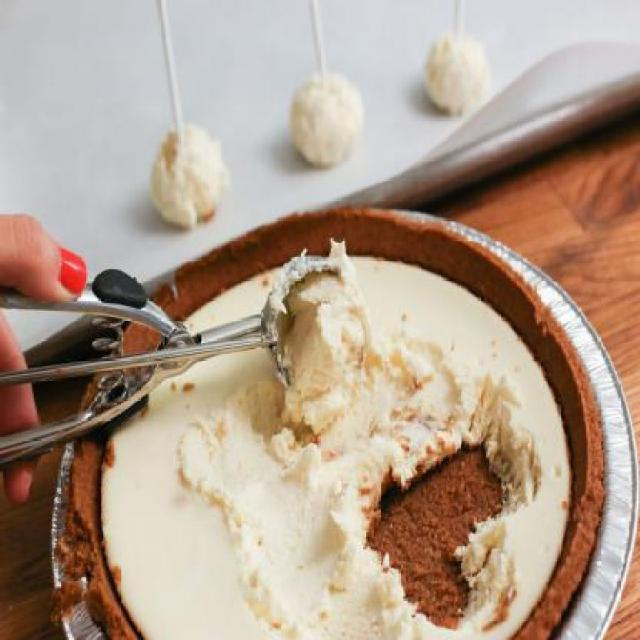Ice cream: (94, 238, 598, 640), (143, 118, 234, 234), (288, 66, 370, 176), (420, 24, 492, 120)
